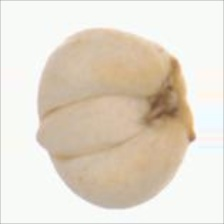L5: (35, 90, 158, 160), (146, 50, 201, 146), (33, 109, 57, 162)
L6: (34, 27, 206, 212)
